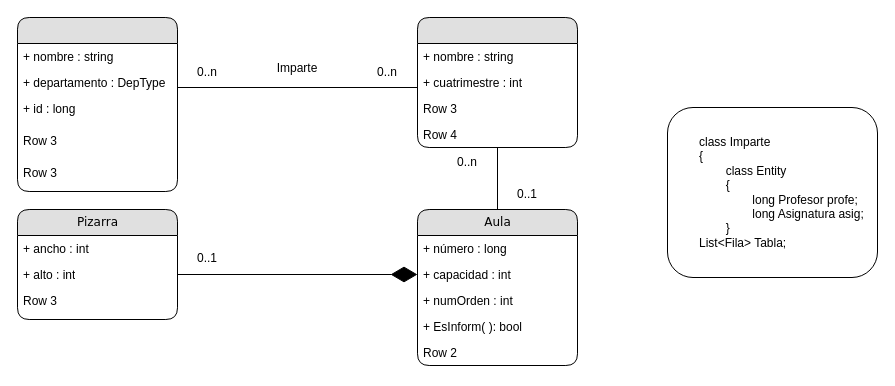
Some shapes in this 895 by 386 pixel diagram are drawn without their labels. The shapes that lost their labels are listed below. From the top down, each one's box as (x1, y1, x2, y2) in pixels, then its label:
(416, 16, 578, 148): Asignatura
(16, 16, 178, 192): Profesor
